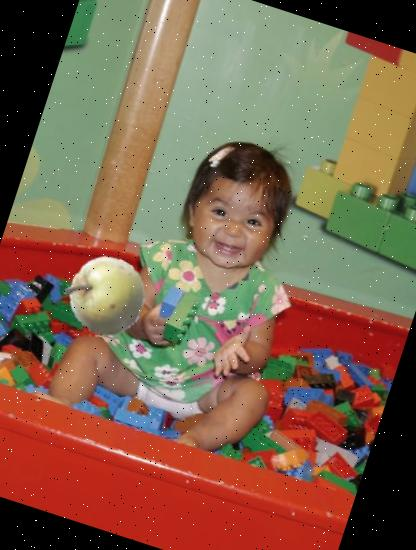Pear: (55, 246, 156, 347)
